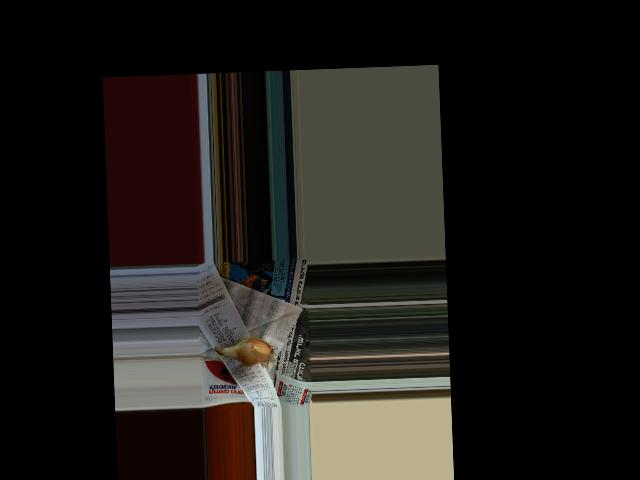onion: (229, 333, 276, 366)
